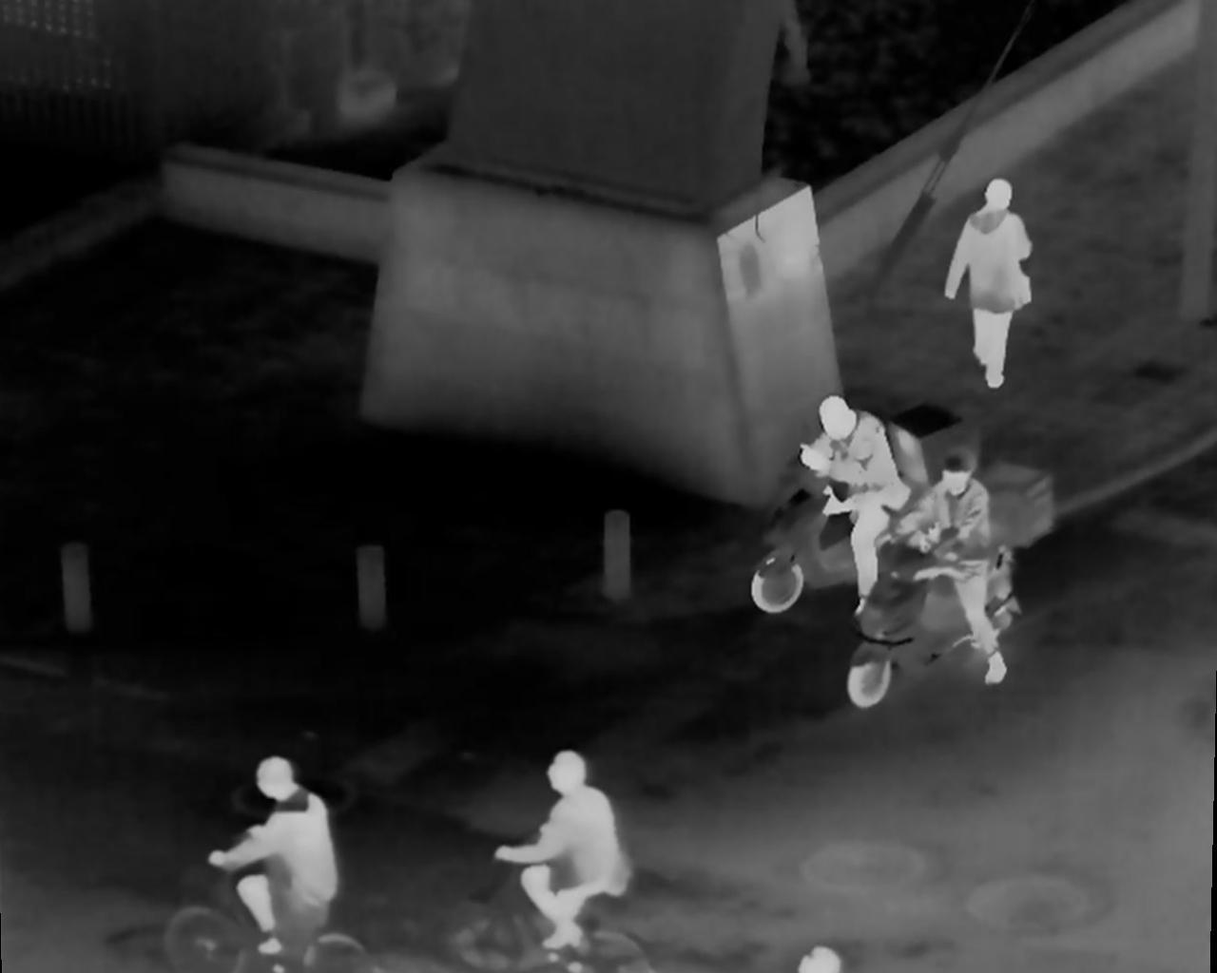person: (237, 759, 357, 962), (907, 438, 993, 694), (510, 752, 624, 945), (949, 165, 1045, 381), (818, 400, 914, 603)
